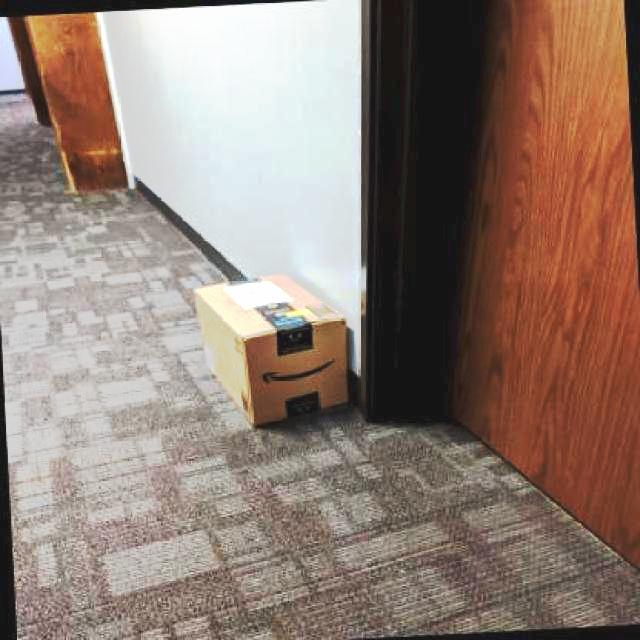Box: (178, 264, 359, 432)
